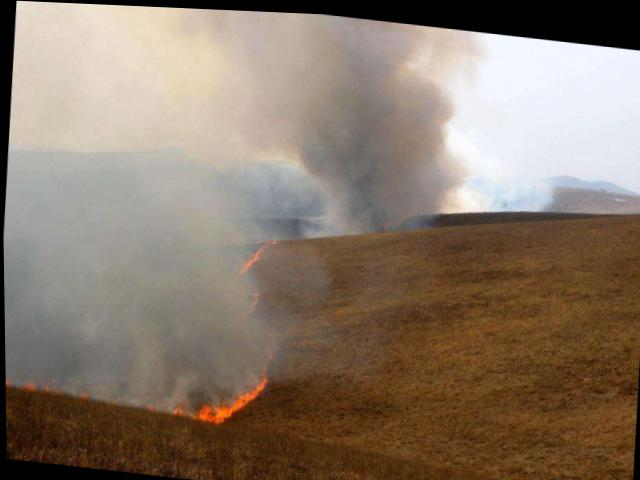fire: (4, 342, 272, 430), (223, 225, 276, 314)
